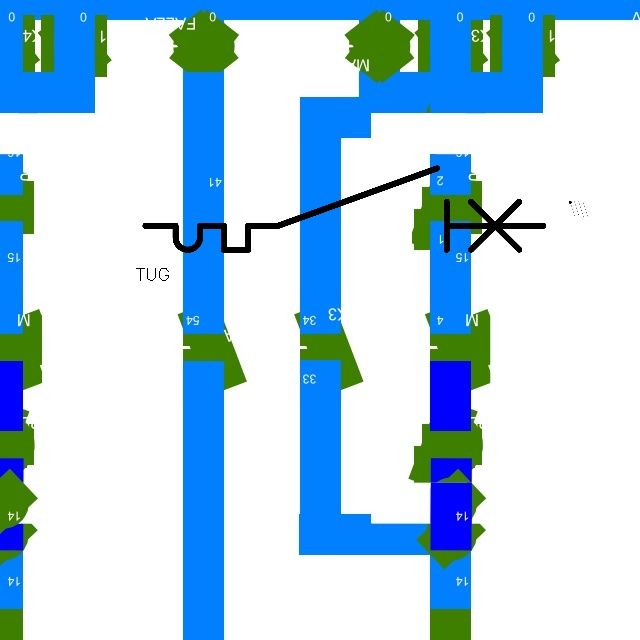interruptor_termomagnetico: (135, 158, 553, 260)
